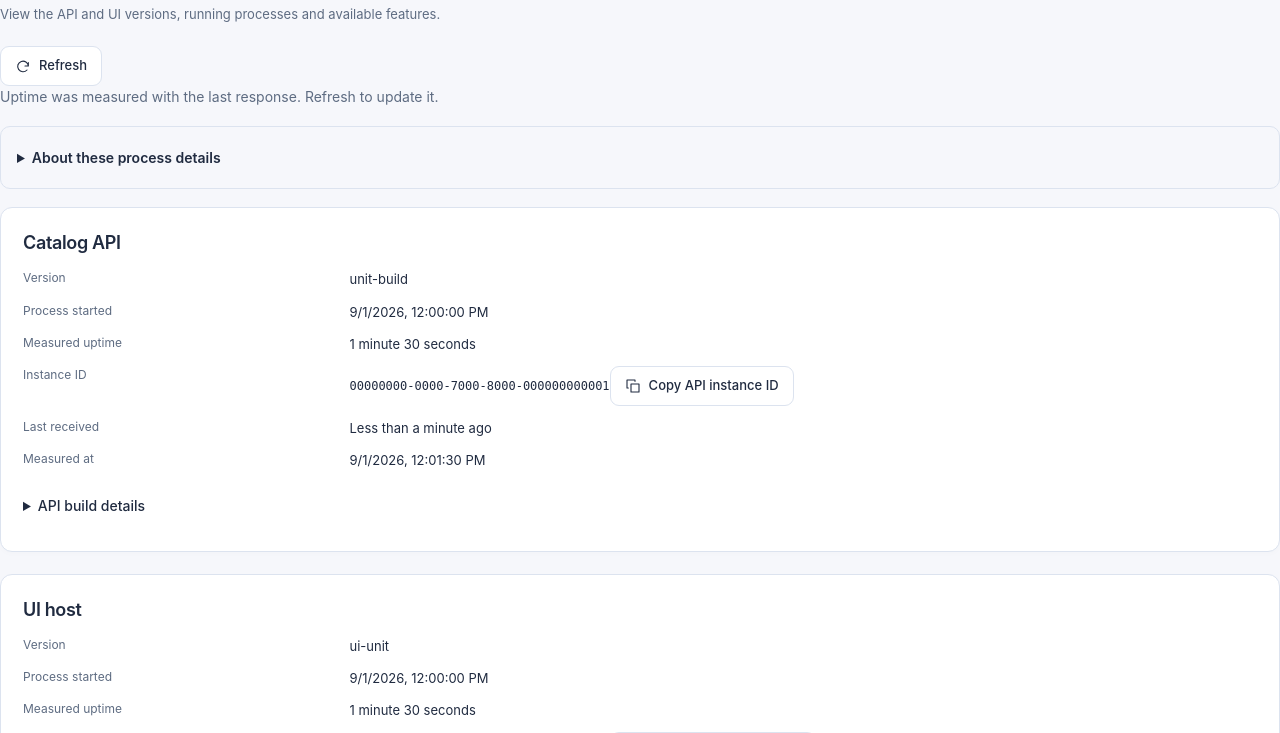
Test: refreshes both panels, isolates failures, and renders degradation text without HTML
The width and height of the screenshot is (1280, 733).
Click the button "Refresh". click: (51, 66)
box: 0,46 -> 102,86
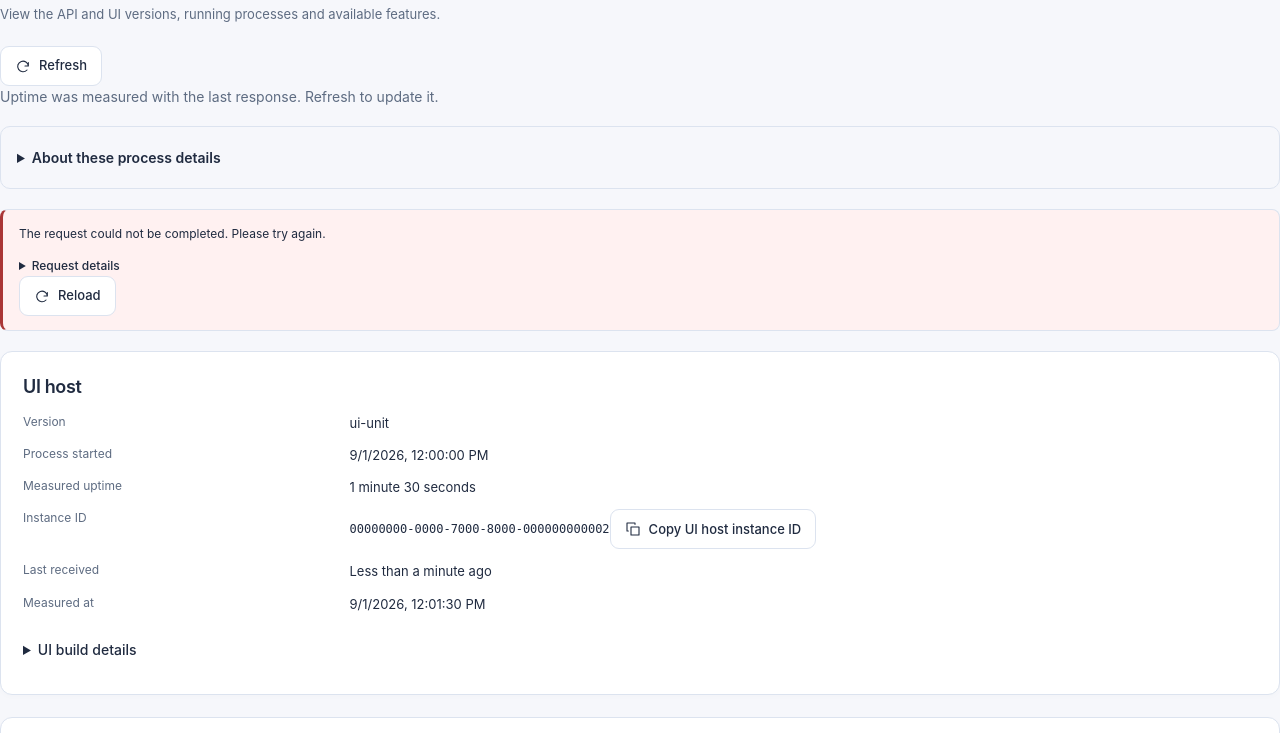
Result: the message "The request could not be completed. Please try again. Request details Reload" is shown at 0,209 -> 1279,331
Result: the heading "Catalog API" is gone
Click the button "Reload". click: (67, 296)
box: 19,276 -> 116,316
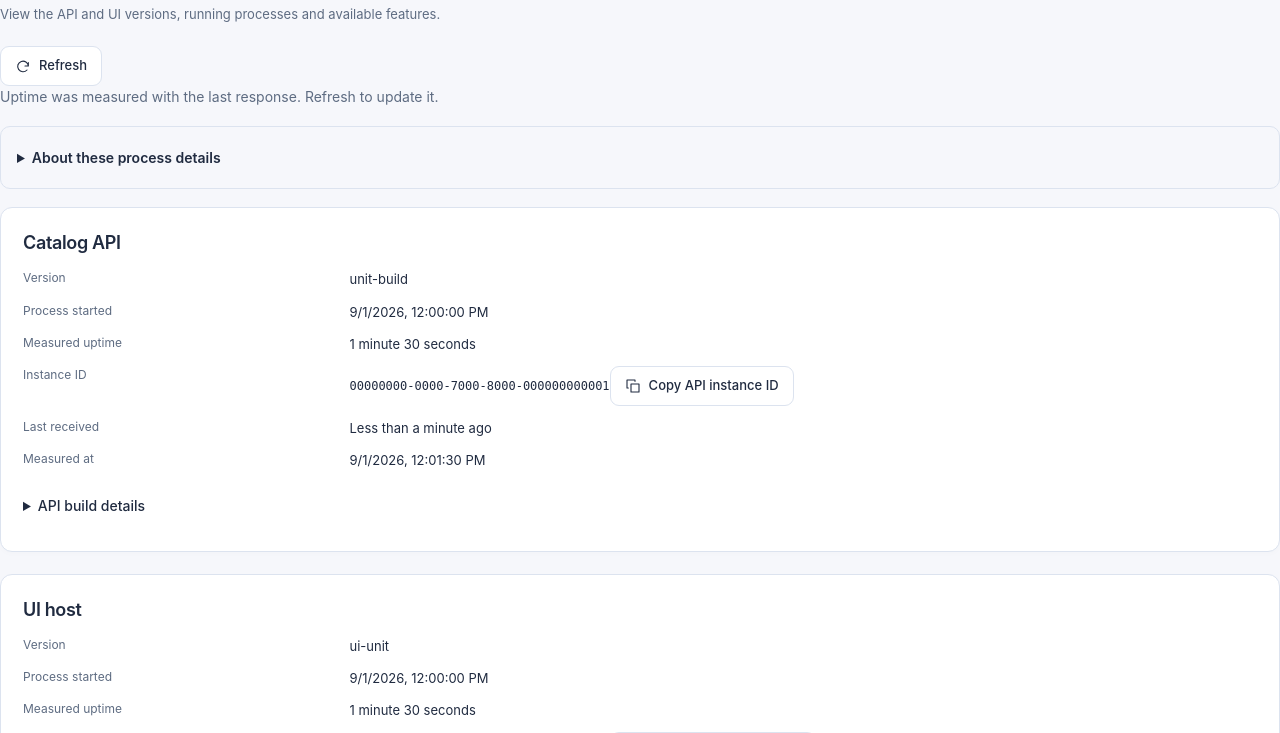
Result: the heading "Catalog API" is shown at 23,232 -> 121,253
Click the button "Refresh". click: (51, 66)
box: 0,46 -> 102,86
(page scrolled)
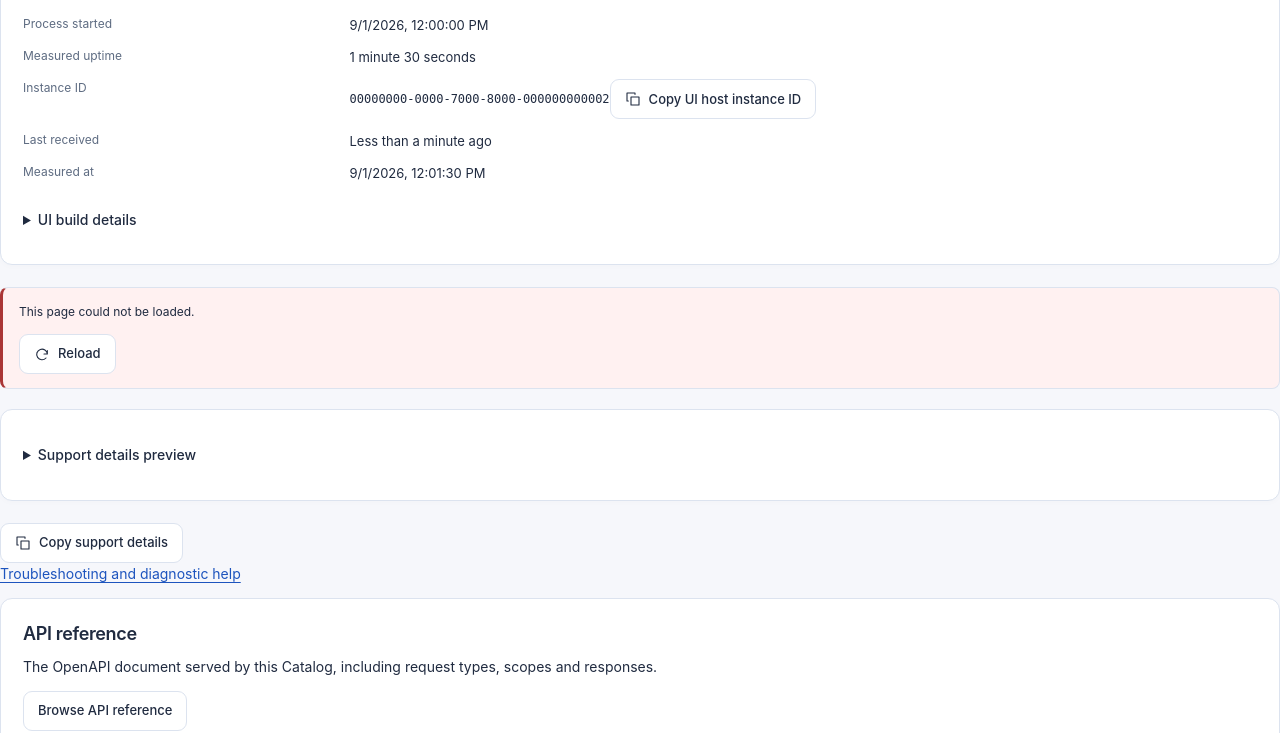
Expected: the heading "Capabilities" is not shown
Result: the message "This page could not be loaded. Reload" is shown at 0,287 -> 1279,389
Click the button "Reload". click: (67, 354)
box: 19,334 -> 116,374
(page scrolled)
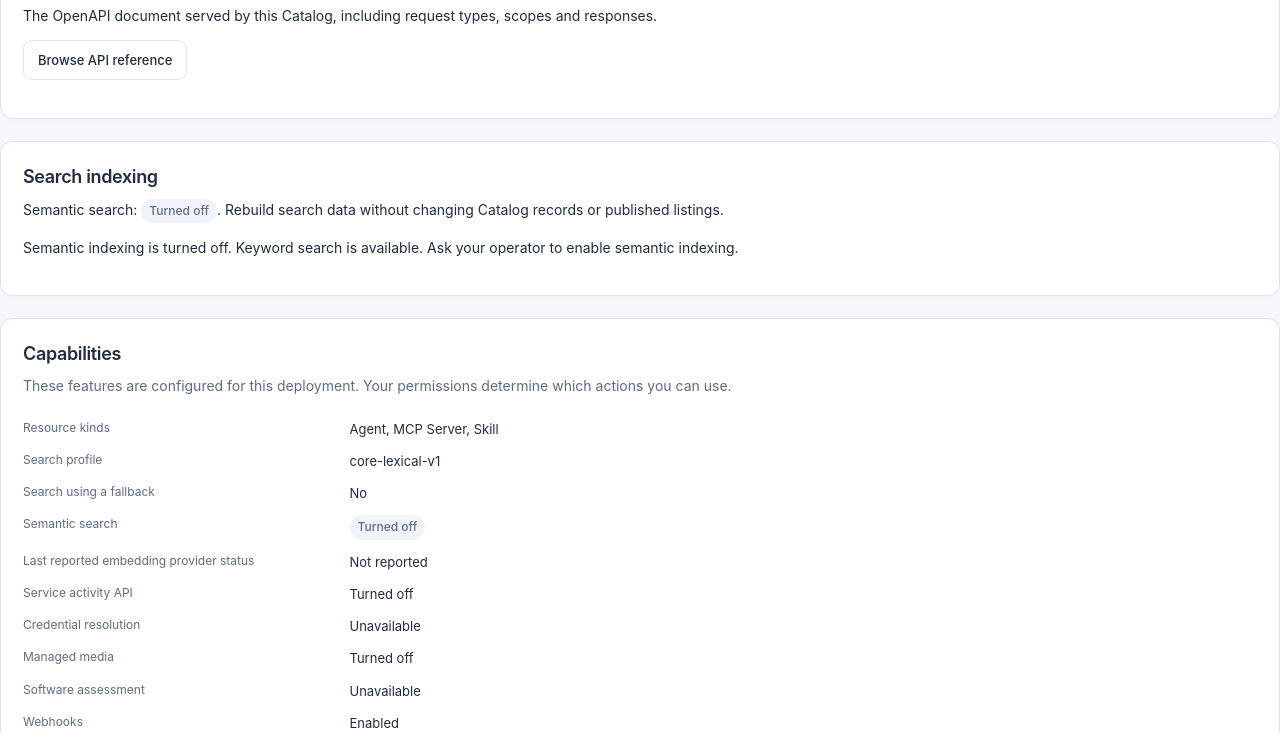
Result: the heading "Capabilities" is shown at 23,343 -> 121,364
